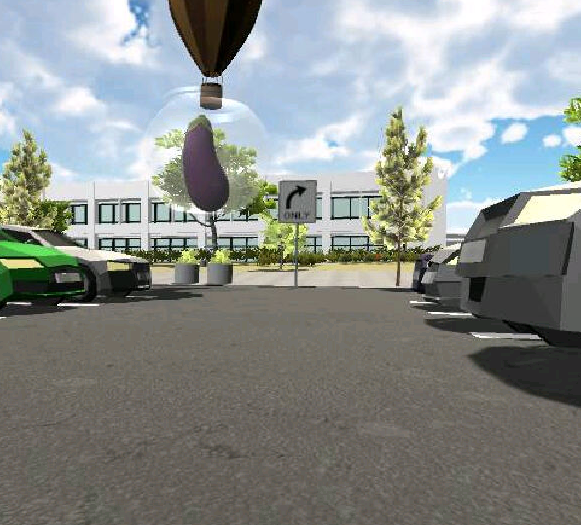turn_right: (285, 185, 309, 210)
